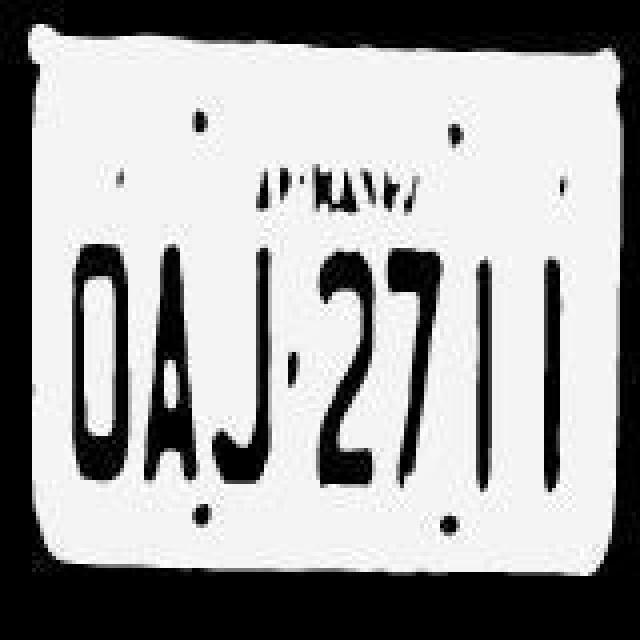1: (526, 252, 578, 500), (454, 252, 506, 500)
2: (308, 242, 380, 494)
7: (384, 234, 448, 502)
A: (134, 234, 202, 486)
J: (210, 230, 286, 490)
O: (58, 236, 134, 492)
